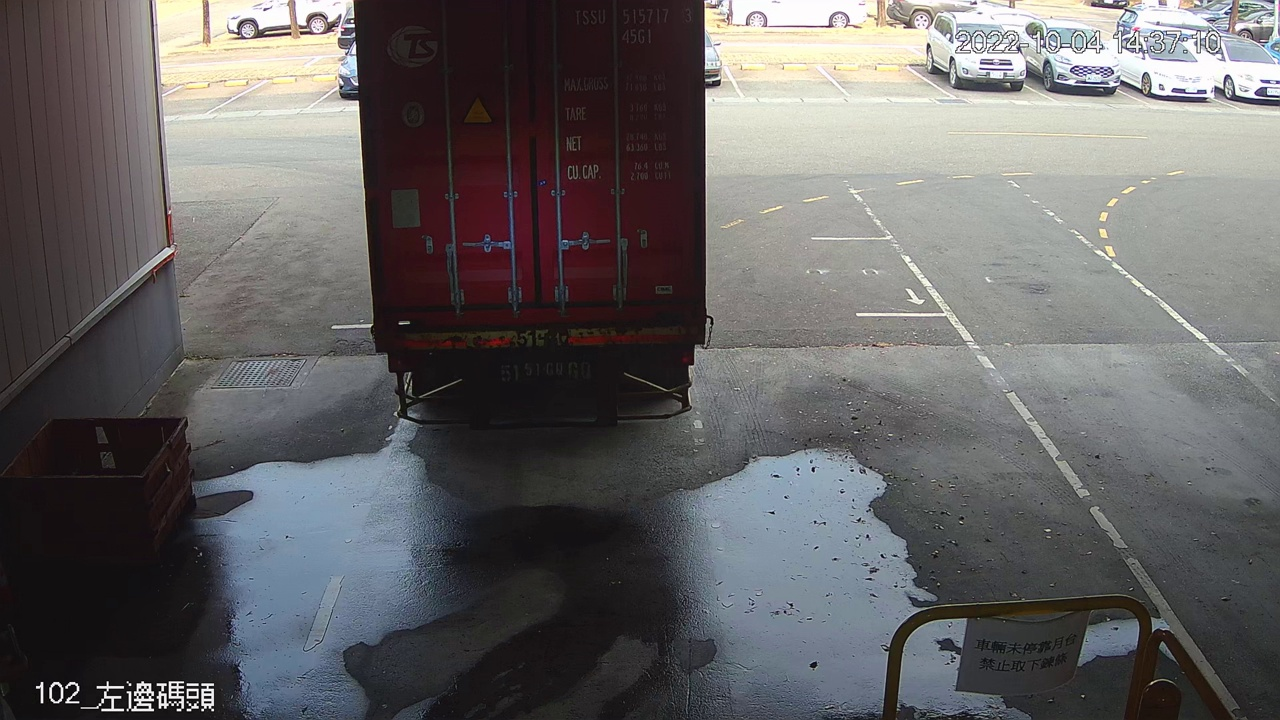container: (568, 1, 699, 48)
